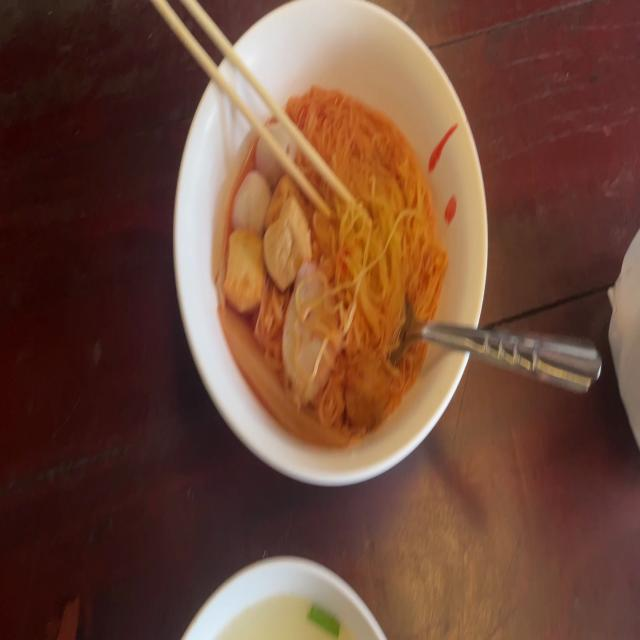crunchy_squid: (216, 293, 353, 458)
egg_noodles: (290, 71, 448, 397)
fish_ball: (252, 119, 298, 190), (230, 168, 270, 235)
fried_fish_balls: (285, 262, 333, 399)
fried_tofu: (264, 180, 311, 279)
noodle: (221, 85, 448, 446)
tofu: (224, 228, 266, 311)
